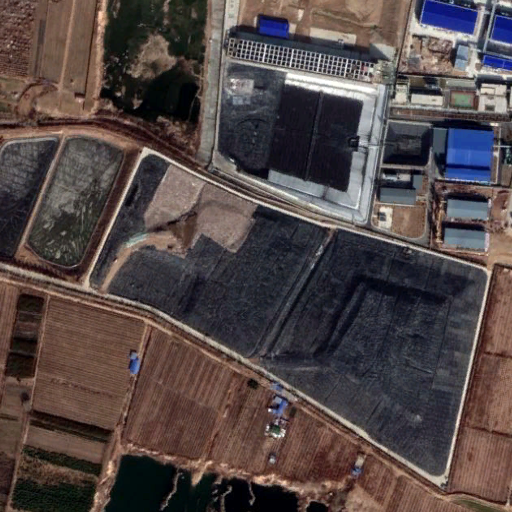lf: (92, 148, 487, 485), (214, 63, 390, 225)
